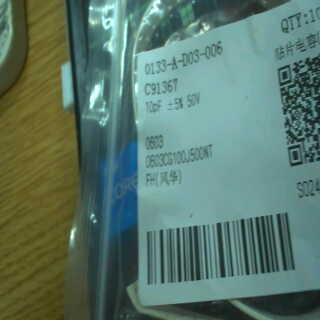10pF: (140, 99, 169, 113)
